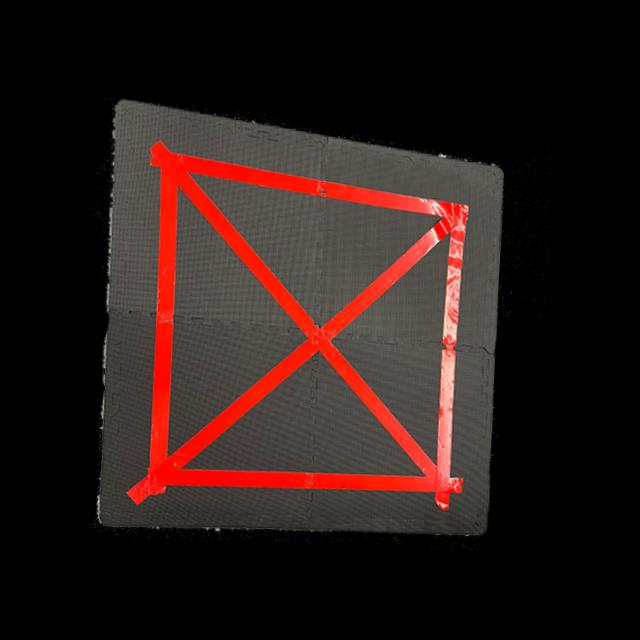landingPads: (95, 93, 513, 555)
